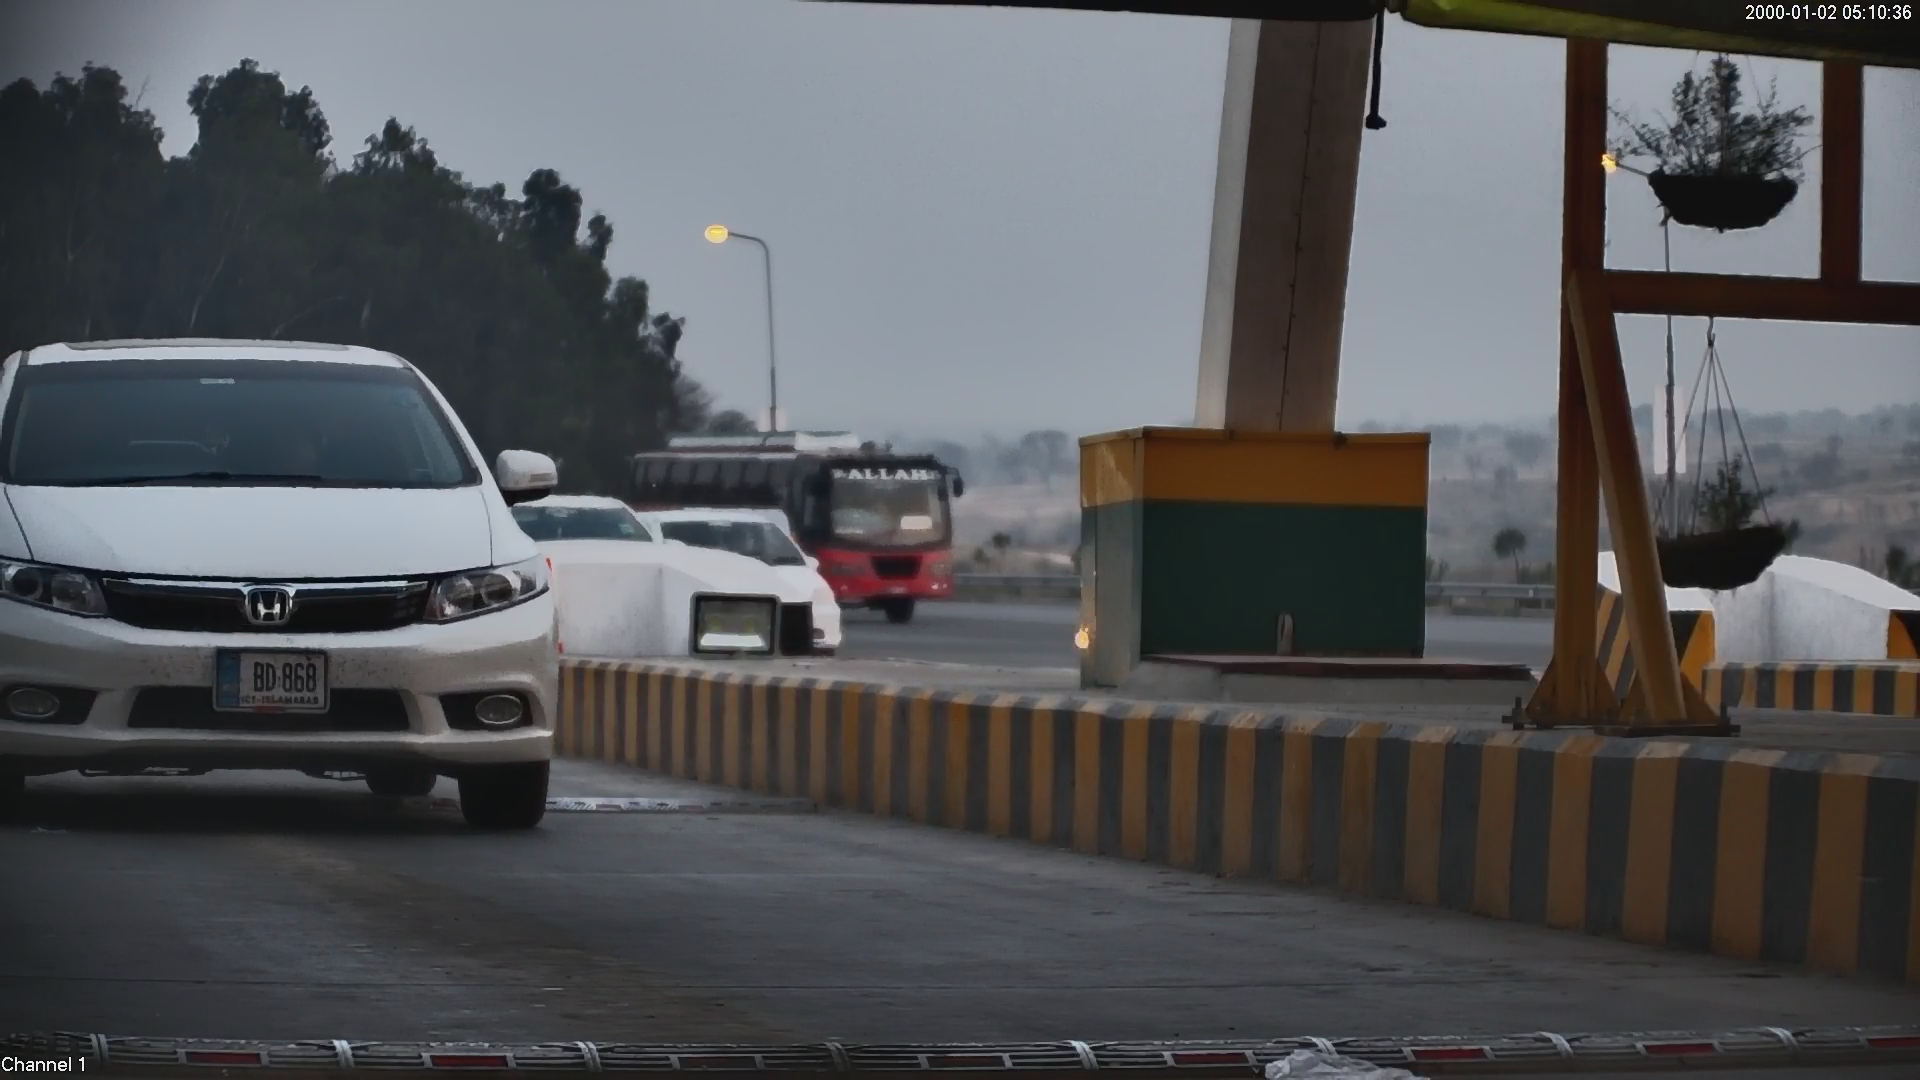Number_Plate: (205, 635, 338, 725)
